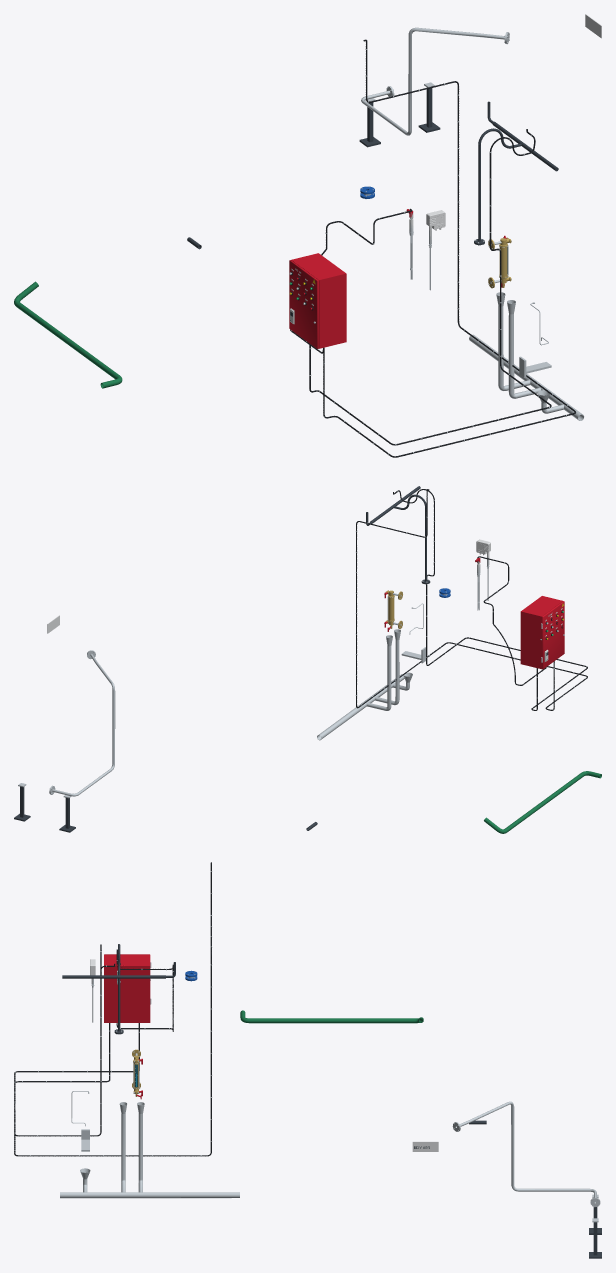
The picture shows the model from 3 angles, top to bottom: view 1: azimuth 30°, elevation 25°; view 2: azimuth 150°, elevation 25°; view 3: azimuth 270°, elevation 25°; orthographic projection. The views are drawn at different scales.
Parts seen in each view (by area): view 1: control_cabinet / control_cabinet_0.npz, local_open_drains / steel, cabinet_door / cabinet_door_5.npz, gpz_drive_cable / black, wiring_pressure_transmitter / black, trap_gap_to_bdv / steel, deaerator_feed / green, pressure_header / dark, trap_support / dark, sight_glasses_2 / sight_glasses_2_0.npz; view 2: control_cabinet / control_cabinet_0.npz, local_open_drains / steel, cabinet_door / cabinet_door_5.npz, gpz_drive_cable / black, wiring_pressure_transmitter / black, trap_gap_to_bdv / steel, deaerator_feed / green, pressure_header / dark; view 3: control_cabinet / control_cabinet_0.npz, local_open_drains / steel, gpz_drive_cable / black, deaerator_feed / green, trap_gap_to_bdv / steel, wiring_pressure_transmitter / black, pressure_header / dark.
Boxes of the visible parts, x1,y1,x2,y2 form: control_cabinet / control_cabinet_0.npz: [291, 253, 346, 348]; local_open_drains / steel: [469, 292, 584, 420]; cabinet_door / cabinet_door_5.npz: [289, 260, 318, 348]; gpz_drive_cable / black: [323, 39, 575, 457]; wiring_pressure_transmitter / black: [309, 129, 551, 445]; trap_gap_to_bdv / steel: [361, 27, 509, 135]; deaerator_feed / green: [14, 281, 122, 388]; pressure_header / dark: [474, 101, 558, 245]; trap_support / dark: [359, 88, 440, 147]; sight_glasses_2 / sight_glasses_2_0.npz: [488, 235, 511, 288]; control_cabinet / control_cabinet_0.npz: [520, 596, 562, 669]; local_open_drains / steel: [317, 629, 412, 740]; cabinet_door / cabinet_door_5.npz: [541, 601, 564, 669]; gpz_drive_cable / black: [356, 489, 587, 710]; wiring_pressure_transmitter / black: [393, 489, 587, 710]; trap_gap_to_bdv / steel: [49, 650, 115, 796]; deaerator_feed / green: [484, 771, 601, 833]; pressure_header / dark: [366, 486, 430, 584]; control_cabinet / control_cabinet_0.npz: [104, 955, 151, 1022]; local_open_drains / steel: [60, 1102, 239, 1198]; gpz_drive_cable / black: [14, 862, 211, 1156]; deaerator_feed / green: [240, 1010, 423, 1023]; trap_gap_to_bdv / steel: [452, 1101, 600, 1207]; wiring_pressure_transmitter / black: [14, 944, 139, 1136]; pressure_header / dark: [62, 944, 175, 1034].
Size of the model in its own units: 6.61 by 3.61 by 6.75.
